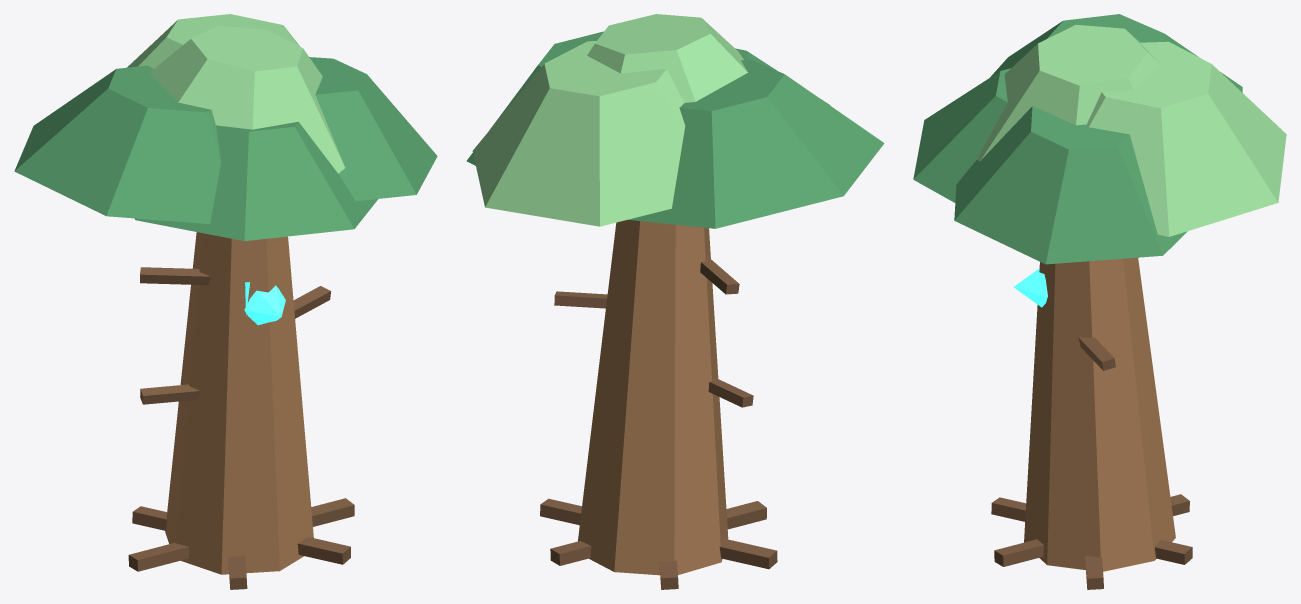
The model's file is thornveil_heartbough_tree.glb.
3 renders of one model, left to right at view 1: azimuth 30°, elevation 25°; view 2: azimuth 150°, elevation 25°; view 3: azimuth 270°, elevation 25°, orthographic. The views are drawn at different scales.
Visible parts, largest first — view 1: PREFAB_thornveil_heartbough_tree_00_SCENE_Worldroot_Heartbou, PREFAB_thornveil_heartbough_tree_08_SCENE_Worldroot_Heartbou, PREFAB_thornveil_heartbough_tree_11_SCENE_Worldroot_Heartbou, PREFAB_thornveil_heartbough_tree_07_SCENE_Worldroot_Heartbou, PREFAB_thornveil_heartbough_tree_09_SCENE_Worldroot_Heartbou, PREFAB_thornveil_heartbough_tree_10_SCENE_Worldroot_Heartbou, PREFAB_thornveil_heartbough_tree_15_SCENE_Worldroot_Heartbou, PREFAB_thornveil_heartbough_tree_14_SCENE_Worldroot_Heartbou, PREFAB_thornveil_heartbough_tree_04_SCENE_Worldroot_Heartbou, PREFAB_thornveil_heartbough_tree_06_SCENE_Worldroot_Heartbou, PREFAB_thornveil_heartbough_tree_12_SCENE_Worldroot_Heartbou, PREFAB_thornveil_heartbough_tree_01_SCENE_Worldroot_Heartbou (+3 smaller); view 2: PREFAB_thornveil_heartbough_tree_00_SCENE_Worldroot_Heartbou, PREFAB_thornveil_heartbough_tree_10_SCENE_Worldroot_Heartbou, PREFAB_thornveil_heartbough_tree_08_SCENE_Worldroot_Heartbou, PREFAB_thornveil_heartbough_tree_07_SCENE_Worldroot_Heartbou, PREFAB_thornveil_heartbough_tree_04_SCENE_Worldroot_Heartbou, PREFAB_thornveil_heartbough_tree_09_SCENE_Worldroot_Heartbou, PREFAB_thornveil_heartbough_tree_05_SCENE_Worldroot_Heartbou, PREFAB_thornveil_heartbough_tree_01_SCENE_Worldroot_Heartbou, PREFAB_thornveil_heartbough_tree_13_SCENE_Worldroot_Heartbou, PREFAB_thornveil_heartbough_tree_14_SCENE_Worldroot_Heartbou, PREFAB_thornveil_heartbough_tree_02_SCENE_Worldroot_Heartbou, PREFAB_thornveil_heartbough_tree_12_SCENE_Worldroot_Heartbou; view 3: PREFAB_thornveil_heartbough_tree_00_SCENE_Worldroot_Heartbou, PREFAB_thornveil_heartbough_tree_09_SCENE_Worldroot_Heartbou, PREFAB_thornveil_heartbough_tree_10_SCENE_Worldroot_Heartbou, PREFAB_thornveil_heartbough_tree_07_SCENE_Worldroot_Heartbou, PREFAB_thornveil_heartbough_tree_11_SCENE_Worldroot_Heartbou, PREFAB_thornveil_heartbough_tree_08_SCENE_Worldroot_Heartbou, PREFAB_thornveil_heartbough_tree_06_SCENE_Worldroot_Heartbou, PREFAB_thornveil_heartbough_tree_15_SCENE_Worldroot_Heartbou, PREFAB_thornveil_heartbough_tree_02_SCENE_Worldroot_Heartbou, PREFAB_thornveil_heartbough_tree_13_SCENE_Worldroot_Heartbou, PREFAB_thornveil_heartbough_tree_05_SCENE_Worldroot_Heartbou, PREFAB_thornveil_heartbough_tree_01_SCENE_Worldroot_Heartbou.
Boxes of the visible parts, box(x1,y1,x2,y2) form: PREFAB_thornveil_heartbough_tree_00_SCENE_Worldroot_Heartbou: box(165, 232, 313, 574); PREFAB_thornveil_heartbough_tree_08_SCENE_Worldroot_Heartbou: box(14, 65, 220, 223); PREFAB_thornveil_heartbough_tree_11_SCENE_Worldroot_Heartbou: box(134, 121, 377, 241); PREFAB_thornveil_heartbough_tree_07_SCENE_Worldroot_Heartbou: box(150, 25, 345, 173); PREFAB_thornveil_heartbough_tree_09_SCENE_Worldroot_Heartbou: box(309, 57, 437, 201); PREFAB_thornveil_heartbough_tree_10_SCENE_Worldroot_Heartbou: box(127, 14, 299, 68); PREFAB_thornveil_heartbough_tree_15_SCENE_Worldroot_Heartbou: box(244, 285, 285, 325); PREFAB_thornveil_heartbough_tree_14_SCENE_Worldroot_Heartbou: box(140, 267, 210, 285); PREFAB_thornveil_heartbough_tree_04_SCENE_Worldroot_Heartbou: box(128, 543, 188, 571); PREFAB_thornveil_heartbough_tree_06_SCENE_Worldroot_Heartbou: box(297, 537, 350, 564); PREFAB_thornveil_heartbough_tree_12_SCENE_Worldroot_Heartbou: box(140, 384, 199, 404); PREFAB_thornveil_heartbough_tree_01_SCENE_Worldroot_Heartbou: box(311, 498, 354, 526); PREFAB_thornveil_heartbough_tree_00_SCENE_Worldroot_Heartbou: box(578, 219, 728, 575); PREFAB_thornveil_heartbough_tree_10_SCENE_Worldroot_Heartbou: box(472, 41, 685, 226); PREFAB_thornveil_heartbough_tree_08_SCENE_Worldroot_Heartbou: box(628, 59, 884, 228); PREFAB_thornveil_heartbough_tree_07_SCENE_Worldroot_Heartbou: box(587, 14, 747, 102); PREFAB_thornveil_heartbough_tree_04_SCENE_Worldroot_Heartbou: box(719, 538, 777, 569); PREFAB_thornveil_heartbough_tree_09_SCENE_Worldroot_Heartbou: box(466, 31, 603, 165); PREFAB_thornveil_heartbough_tree_05_SCENE_Worldroot_Heartbou: box(726, 501, 766, 529); PREFAB_thornveil_heartbough_tree_01_SCENE_Worldroot_Heartbou: box(540, 498, 581, 525); PREFAB_thornveil_heartbough_tree_13_SCENE_Worldroot_Heartbou: box(554, 291, 607, 308); PREFAB_thornveil_heartbough_tree_14_SCENE_Worldroot_Heartbou: box(700, 256, 739, 294); PREFAB_thornveil_heartbough_tree_02_SCENE_Worldroot_Heartbou: box(550, 541, 591, 565); PREFAB_thornveil_heartbough_tree_12_SCENE_Worldroot_Heartbou: box(708, 377, 753, 407); PREFAB_thornveil_heartbough_tree_00_SCENE_Worldroot_Heartbou: box(1024, 257, 1175, 571); PREFAB_thornveil_heartbough_tree_09_SCENE_Worldroot_Heartbou: box(954, 106, 1187, 264); PREFAB_thornveil_heartbough_tree_10_SCENE_Worldroot_Heartbou: box(1086, 41, 1286, 236); PREFAB_thornveil_heartbough_tree_07_SCENE_Worldroot_Heartbou: box(977, 24, 1160, 161); PREFAB_thornveil_heartbough_tree_11_SCENE_Worldroot_Heartbou: box(913, 68, 1010, 202); PREFAB_thornveil_heartbough_tree_08_SCENE_Worldroot_Heartbou: box(990, 14, 1242, 92); PREFAB_thornveil_heartbough_tree_06_SCENE_Worldroot_Heartbou: box(994, 539, 1043, 566); PREFAB_thornveil_heartbough_tree_15_SCENE_Worldroot_Heartbou: box(1014, 268, 1047, 307); PREFAB_thornveil_heartbough_tree_02_SCENE_Worldroot_Heartbou: box(1154, 540, 1192, 564); PREFAB_thornveil_heartbough_tree_13_SCENE_Worldroot_Heartbou: box(1078, 337, 1115, 370); PREFAB_thornveil_heartbough_tree_05_SCENE_Worldroot_Heartbou: box(991, 497, 1026, 521); PREFAB_thornveil_heartbough_tree_01_SCENE_Worldroot_Heartbou: box(1085, 555, 1103, 589).
Bounding box in the file's own units: 14.6 × 18.69 × 12.72.
